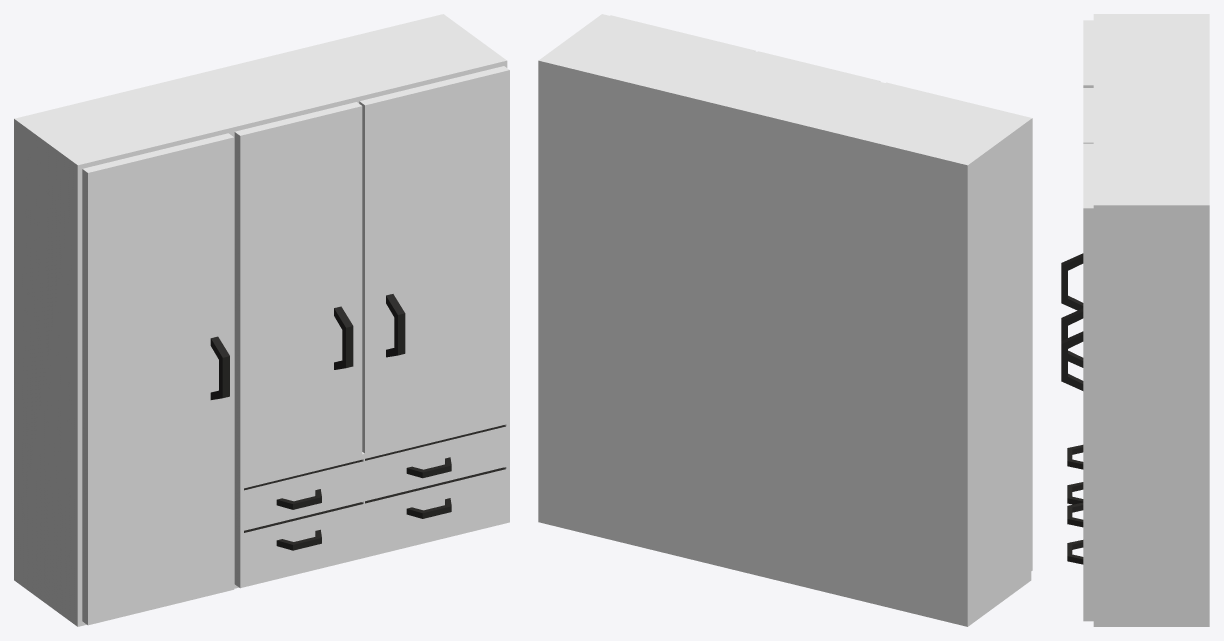
Rendered from WardRobe_3A.fbx.
3 renders of one model, left to right at view 1: azimuth 30°, elevation 25°; view 2: azimuth 150°, elevation 25°; view 3: azimuth 270°, elevation 25°, orthographic. The views are drawn at different scales.
Visible parts, largest first — view 1: polySurface1715; view 2: polySurface1715; view 3: polySurface1715.
Part boxes in pixels (box(x1,y1,x2,y2)): polySurface1715: box(14, 14, 509, 626); polySurface1715: box(538, 14, 1032, 626); polySurface1715: box(1061, 14, 1209, 626).
Bounding box in the file's own units: 3.31 × 3.4 × 1.09.
Materials: 1 (1 with a texture image).
